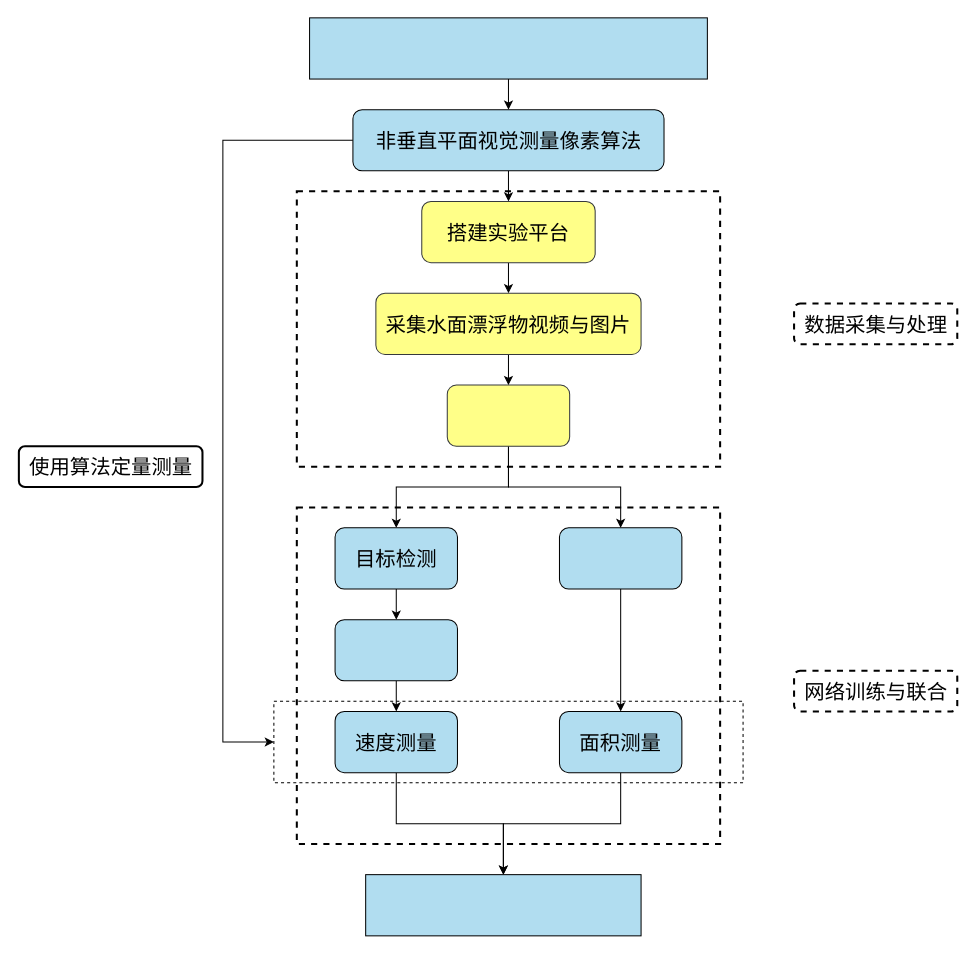
This 975x954 diagram has some shape labels left out. Here are the shapes that lost their labels. From the top down, the centre of each, then its label:
[508,48]: 基于深度学习的河道漂浮物状态识别算法
[508,415]: 数据集制作
[620,558]: 图像分割
[395,650]: 目标跟踪
[503,905]: 漂浮物来量联合预警系统
